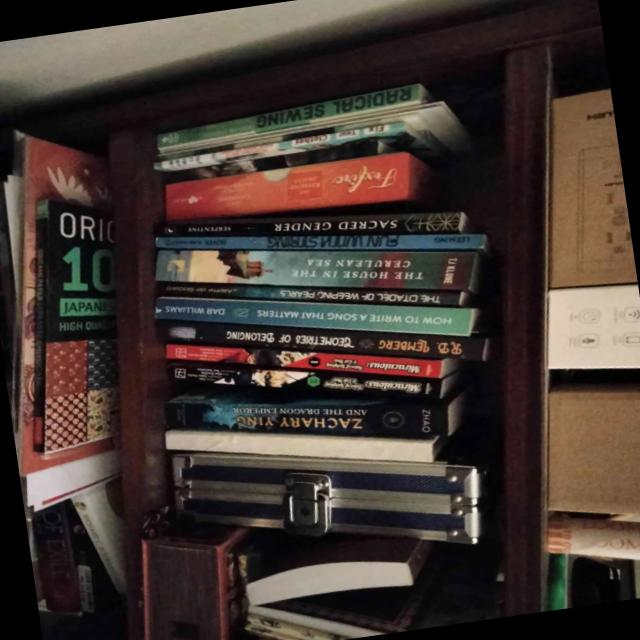book: (23, 198, 120, 457), (155, 81, 431, 153), (161, 150, 431, 223), (164, 386, 463, 440), (151, 119, 441, 173), (157, 319, 488, 363), (155, 249, 479, 292), (153, 295, 479, 337), (167, 360, 458, 401), (166, 137, 396, 185), (164, 343, 457, 380), (155, 212, 468, 239), (156, 281, 469, 308), (154, 231, 488, 253)
